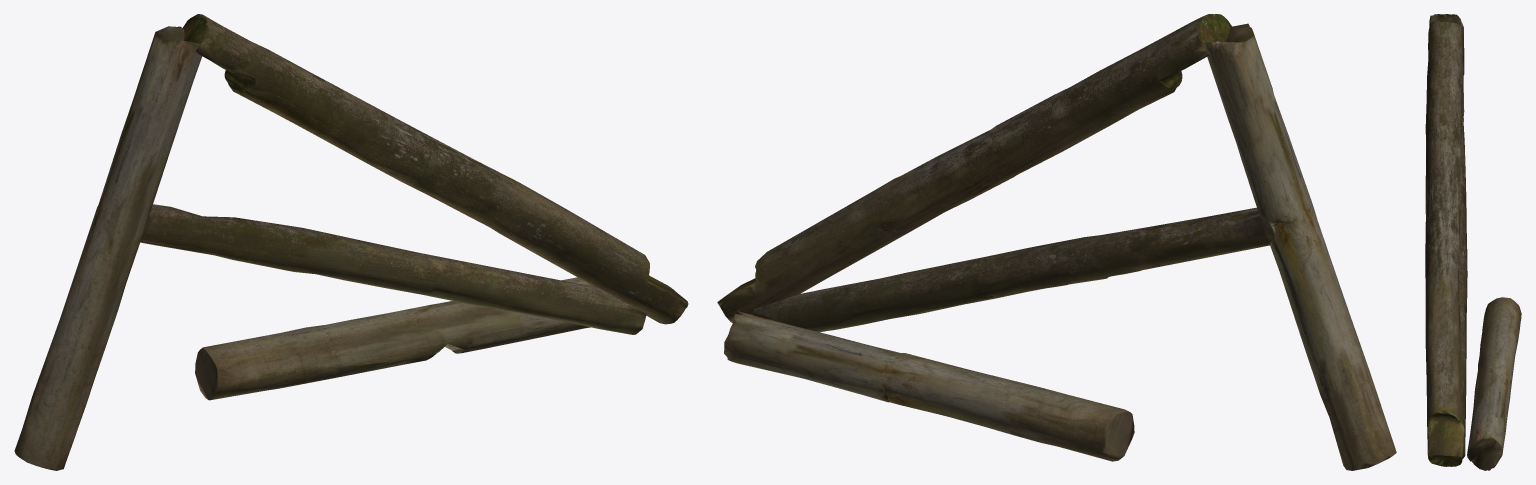
File: BrokenFence.fbx
The picture shows the model from 3 angles, left to right: view 1: azimuth 30°, elevation 25°; view 2: azimuth 150°, elevation 25°; view 3: azimuth 270°, elevation 25°; orthographic projection. The views are drawn at different scales.
Visible parts, largest first — view 1: BrokenFence; view 2: BrokenFence; view 3: BrokenFence.
Boxes of the visible parts, x1,y1,x2,y2 form: BrokenFence: [14, 14, 688, 470]; BrokenFence: [717, 14, 1396, 470]; BrokenFence: [1425, 14, 1521, 470].
Size of the model in its own units: 187 by 116 by 33.75.
